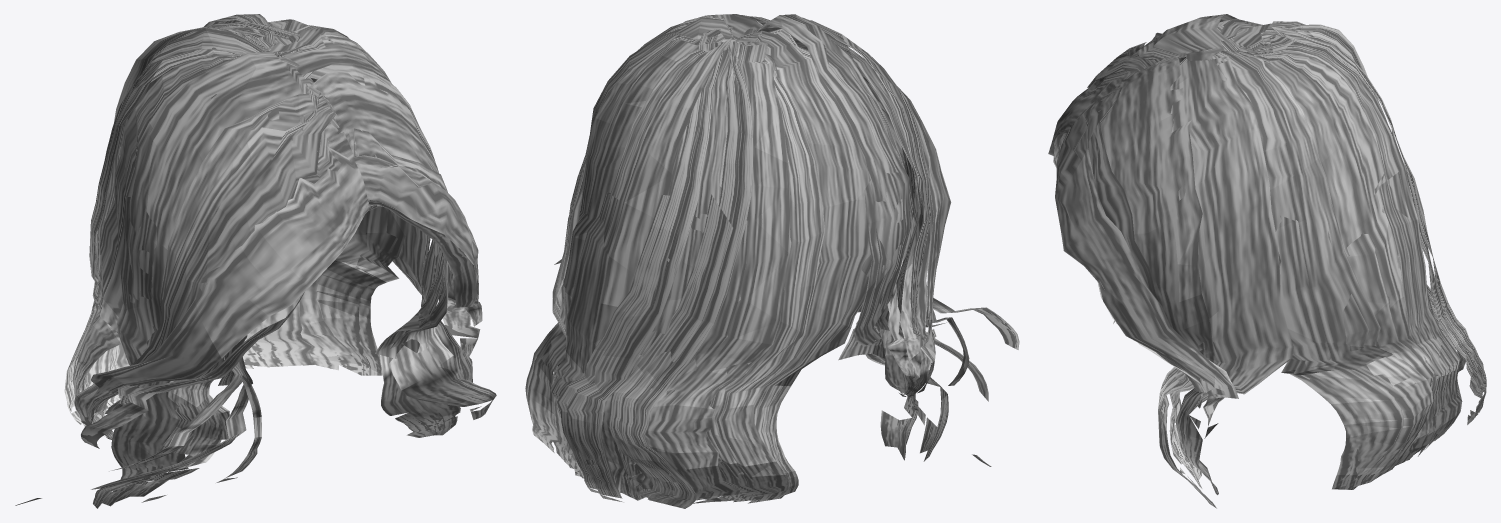
The model's file is daz_hair_hazel_wave.glb.
The picture shows the model from 3 angles, left to right: view 1: azimuth 30°, elevation 25°; view 2: azimuth 150°, elevation 25°; view 3: azimuth 270°, elevation 25°; orthographic projection. The views are drawn at different scales.
Parts seen in each view (by area): view 1: daz_hair_hazel_wave; view 2: daz_hair_hazel_wave; view 3: daz_hair_hazel_wave.
Part boxes in pixels (x1=…): daz_hair_hazel_wave: x1=15, y1=14, x2=496, y2=508; daz_hair_hazel_wave: x1=525, y1=14, x2=1019, y2=508; daz_hair_hazel_wave: x1=1048, y1=14, x2=1486, y2=508.
Size of the model in its own units: 0.2808 by 0.2476 by 0.2491.
1 material, 1 textured.
